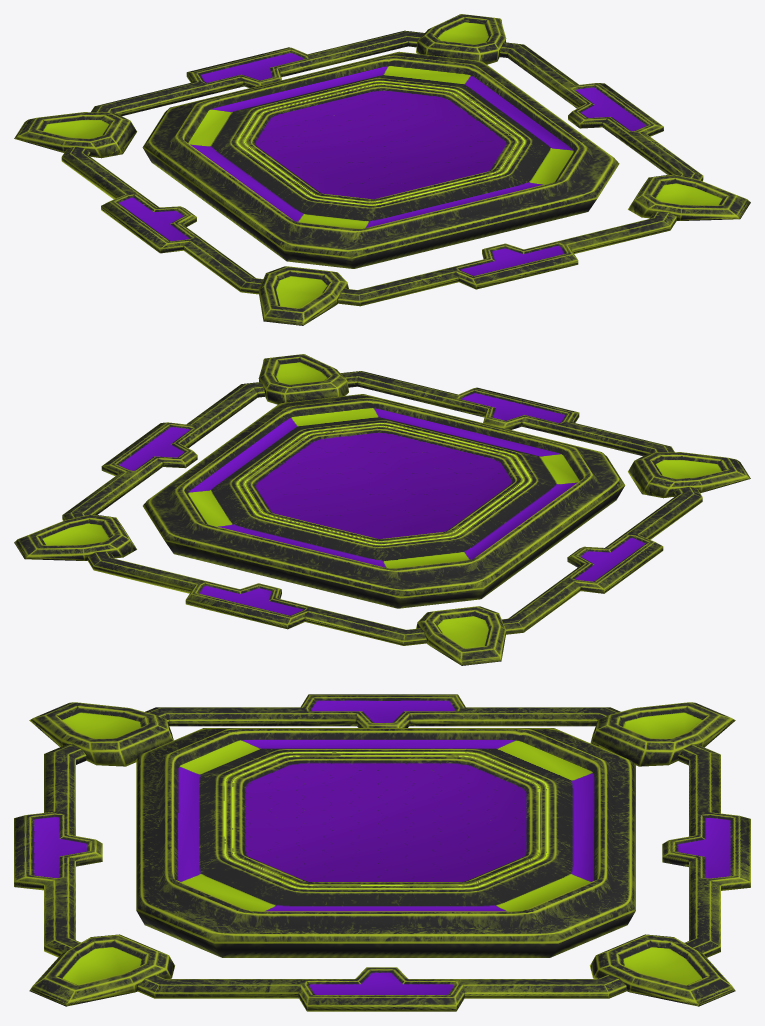
Rendered from jumpPad.fbx.
The picture shows the model from 3 angles, top to bottom: view 1: azimuth 30°, elevation 25°; view 2: azimuth 150°, elevation 25°; view 3: azimuth 270°, elevation 25°; orthographic projection. The views are drawn at different scales.
Parts seen in each view (by area): view 1: Plane.039; view 2: Plane.039; view 3: Plane.039.
Part boxes in pixels (x1=…): Plane.039: x1=14, y1=14, x2=750, y2=325; Plane.039: x1=14, y1=354, x2=750, y2=665; Plane.039: x1=14, y1=694, x2=750, y2=1011.
Size of the model in its own units: 54.64 by 2.87 by 54.64.
